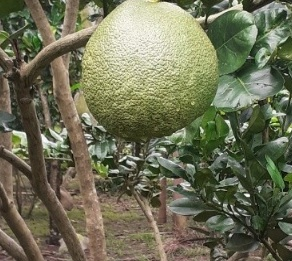Buoi: (74, 1, 229, 148)
